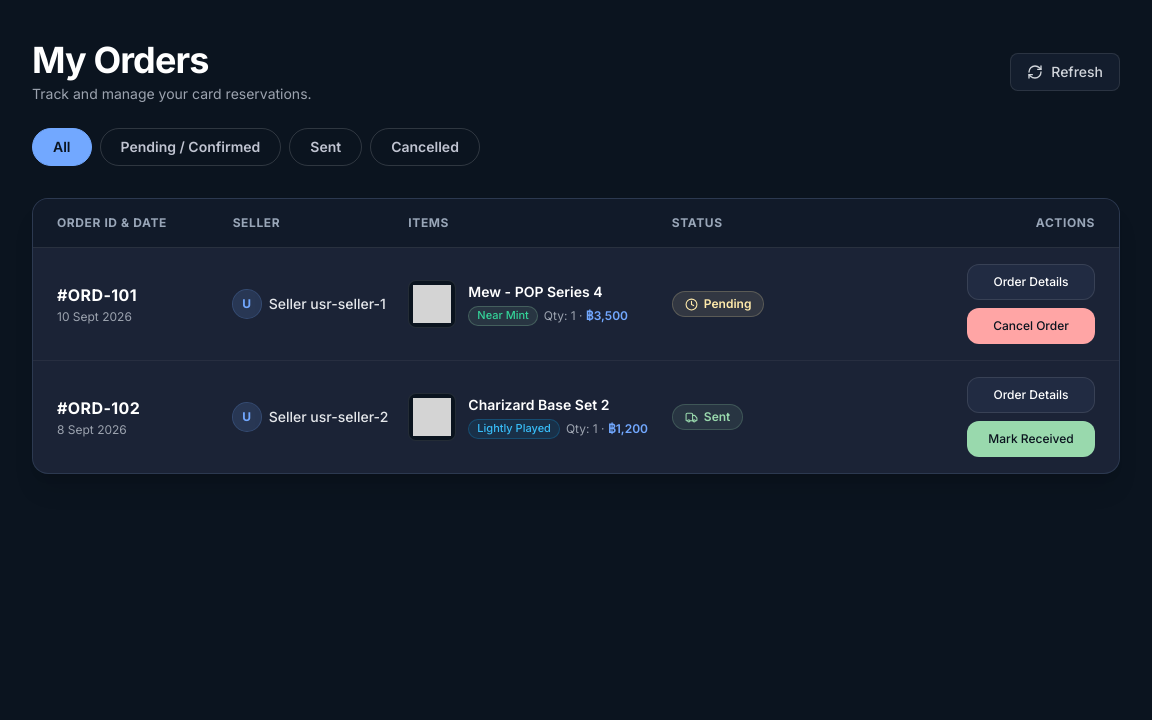
MyOrdersPage (SCRUM-80) › opens Order Details modal when clicking Order Details button
Check: the text "#ORD-101" is shown, box top-left (57, 285), bottom-right (137, 305)
Click the 1st button "Order Details" at (1031, 282), box top-left (967, 264), bottom-right (1095, 300)
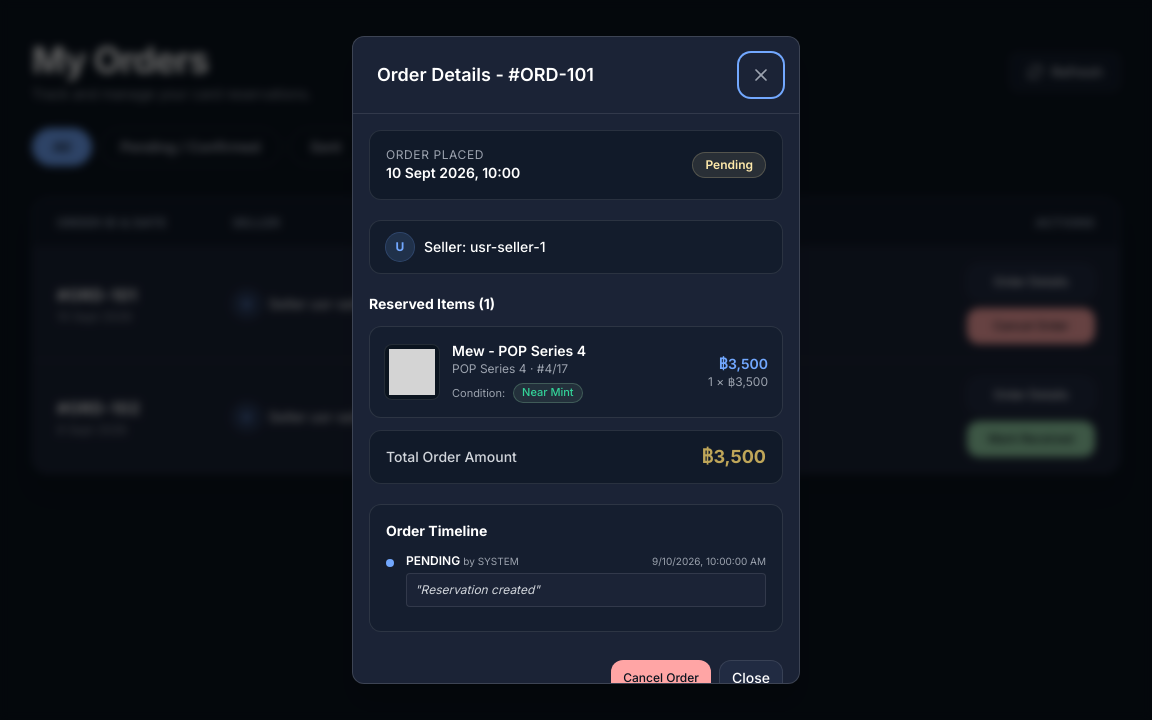
Check: the heading "Order Details - #ORD-101" is shown, box top-left (377, 61), bottom-right (594, 89)
